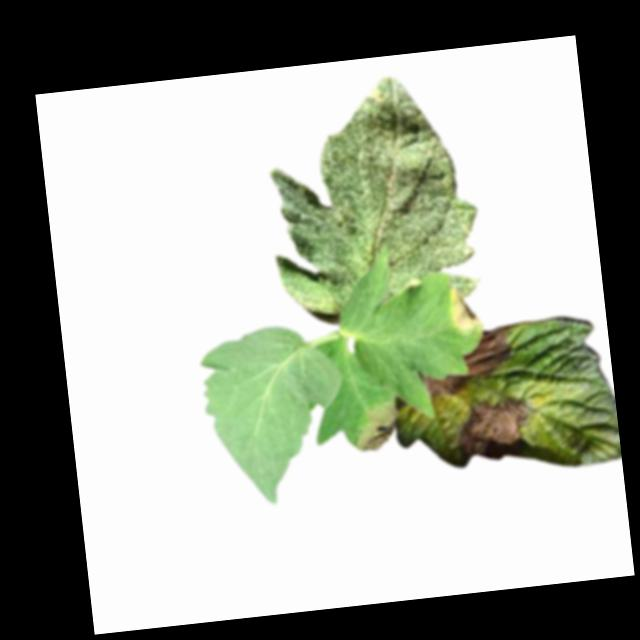Late_blight: (454, 397, 537, 459), (460, 324, 516, 377), (352, 397, 401, 454), (448, 284, 484, 334), (421, 368, 472, 402)
